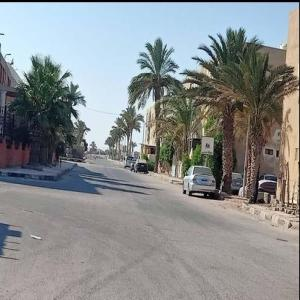palm tree: (215, 41, 299, 203), (7, 52, 86, 166), (127, 36, 179, 173), (120, 104, 144, 156)
